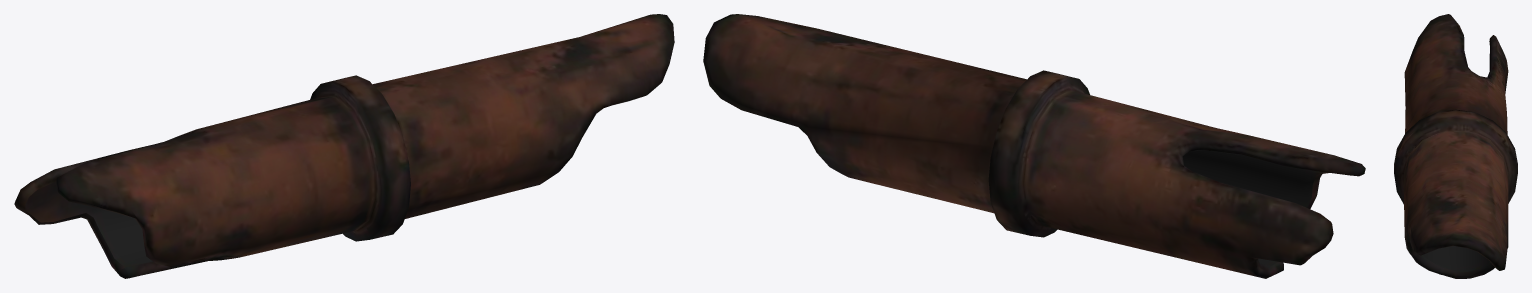
The model's file is metal-pipe.glb.
The picture shows the model from 3 angles, left to right: view 1: azimuth 30°, elevation 25°; view 2: azimuth 150°, elevation 25°; view 3: azimuth 270°, elevation 25°; orthographic projection. The views are drawn at different scales.
Visible parts, largest first — view 1: metalPipe_LOD0; view 2: metalPipe_LOD0; view 3: metalPipe_LOD0.
Part boxes in pixels (x1,y1,x2,y2): metalPipe_LOD0: (14, 14, 674, 278); metalPipe_LOD0: (703, 14, 1365, 278); metalPipe_LOD0: (1394, 14, 1517, 278).
Size of the model in its own units: 0.8134 by 0.1837 by 0.1827.
1 material, 1 textured.
